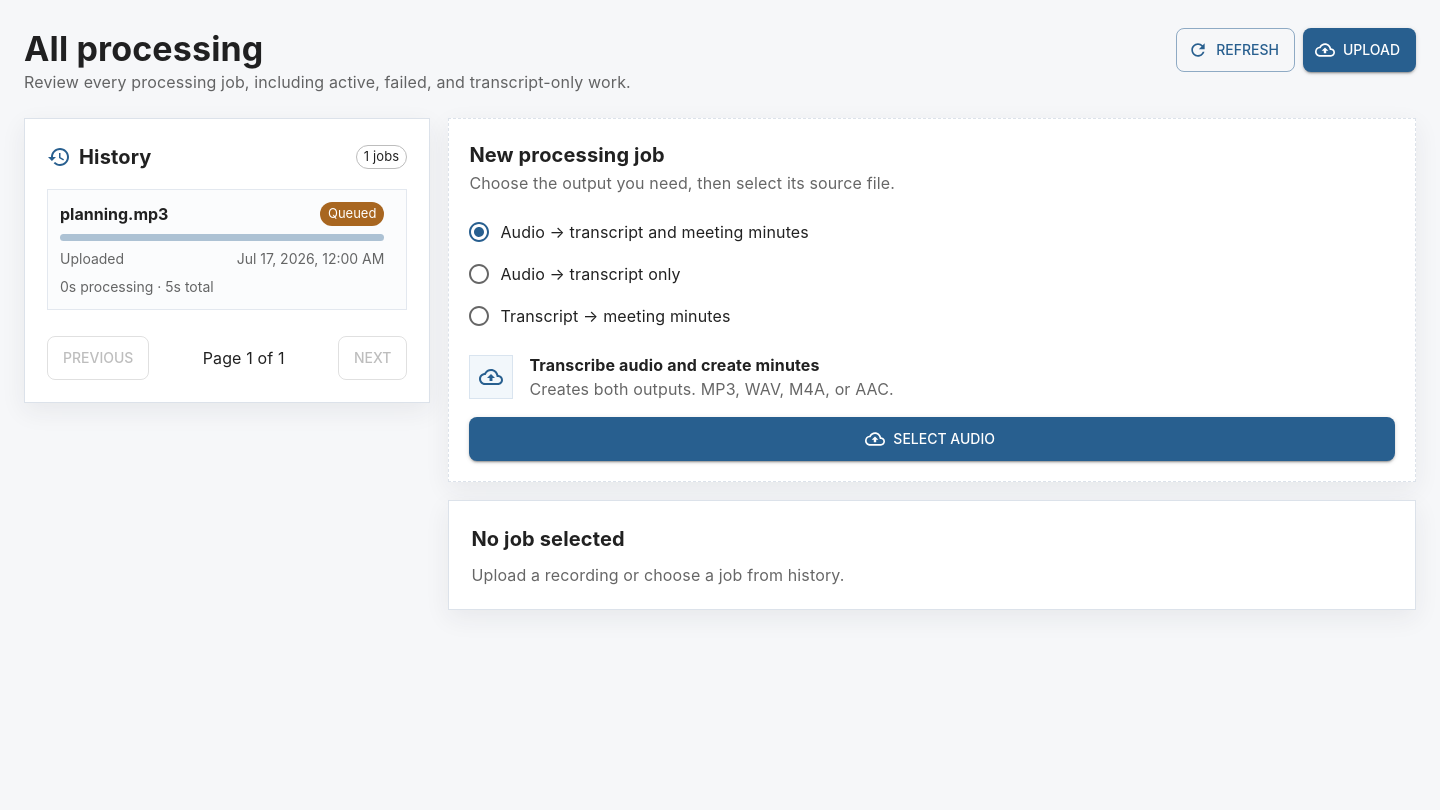
Test: MeetingMind workflow › keeps the selected history card synchronized with status polling
Click the button "planning.mp3" at (114, 214), box [60,202,384,297]
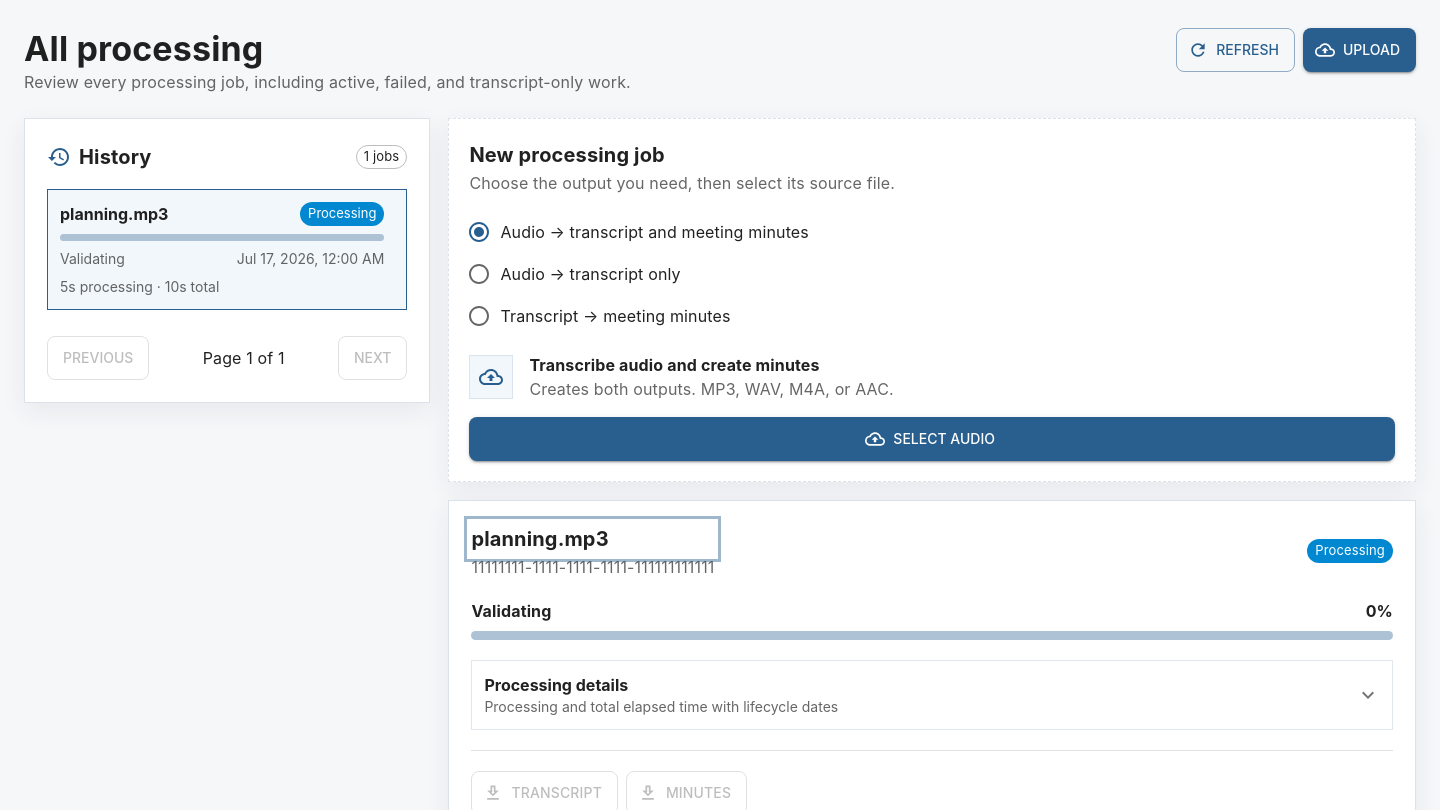
Now the text "Processing" is shown 2 times, box [308,205,376,221]; [1315,542,1385,558]
Now the text "Validating" is shown 2 times, box [60,249,125,269]; [471,599,552,623]
Now the button "Queued" is gone
